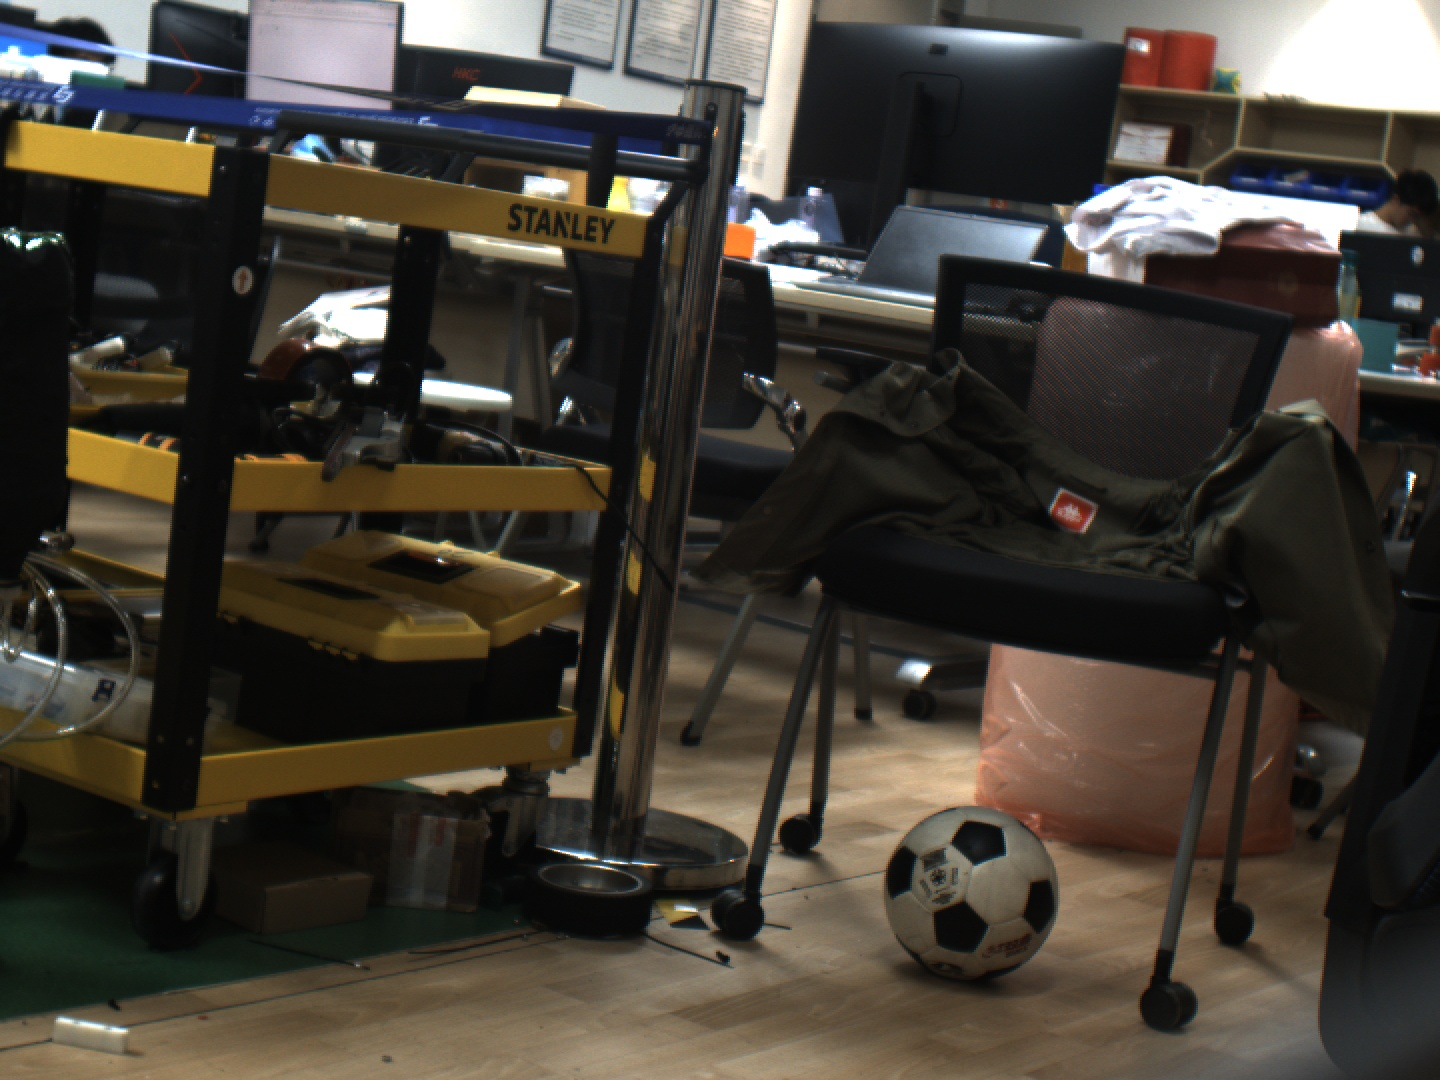ball: (886, 805, 1058, 986)
